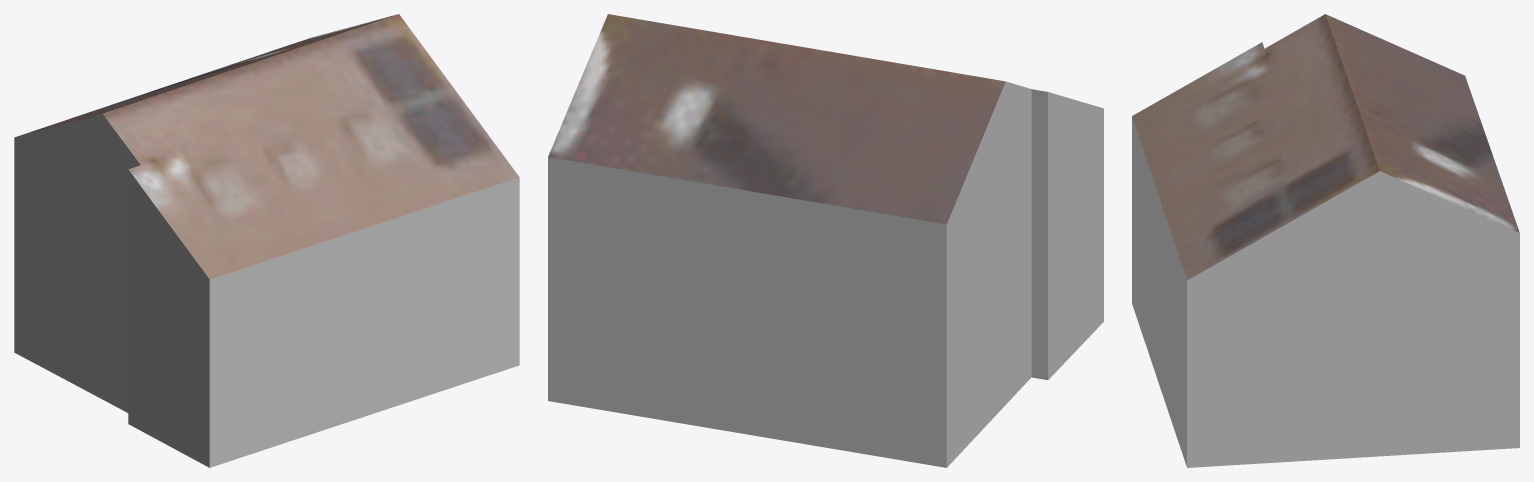
Rendered from DEBW_0010007TxdE.gltf.
3 renders of one model, left to right at view 1: azimuth 30°, elevation 25°; view 2: azimuth 150°, elevation 25°; view 3: azimuth 270°, elevation 25°, orthographic. The views are drawn at different scales.
Parts seen in each view (by area): view 1: Z_UP; view 2: Z_UP; view 3: Z_UP.
Boxes of the visible parts, box(x1,y1,x2,y2) form: Z_UP: box(14, 14, 519, 467); Z_UP: box(548, 14, 1103, 467); Z_UP: box(1132, 14, 1519, 467).
Size of the model in its own units: 13.45 by 10.06 by 12.39.
Materials: 2 (1 with a texture image).
